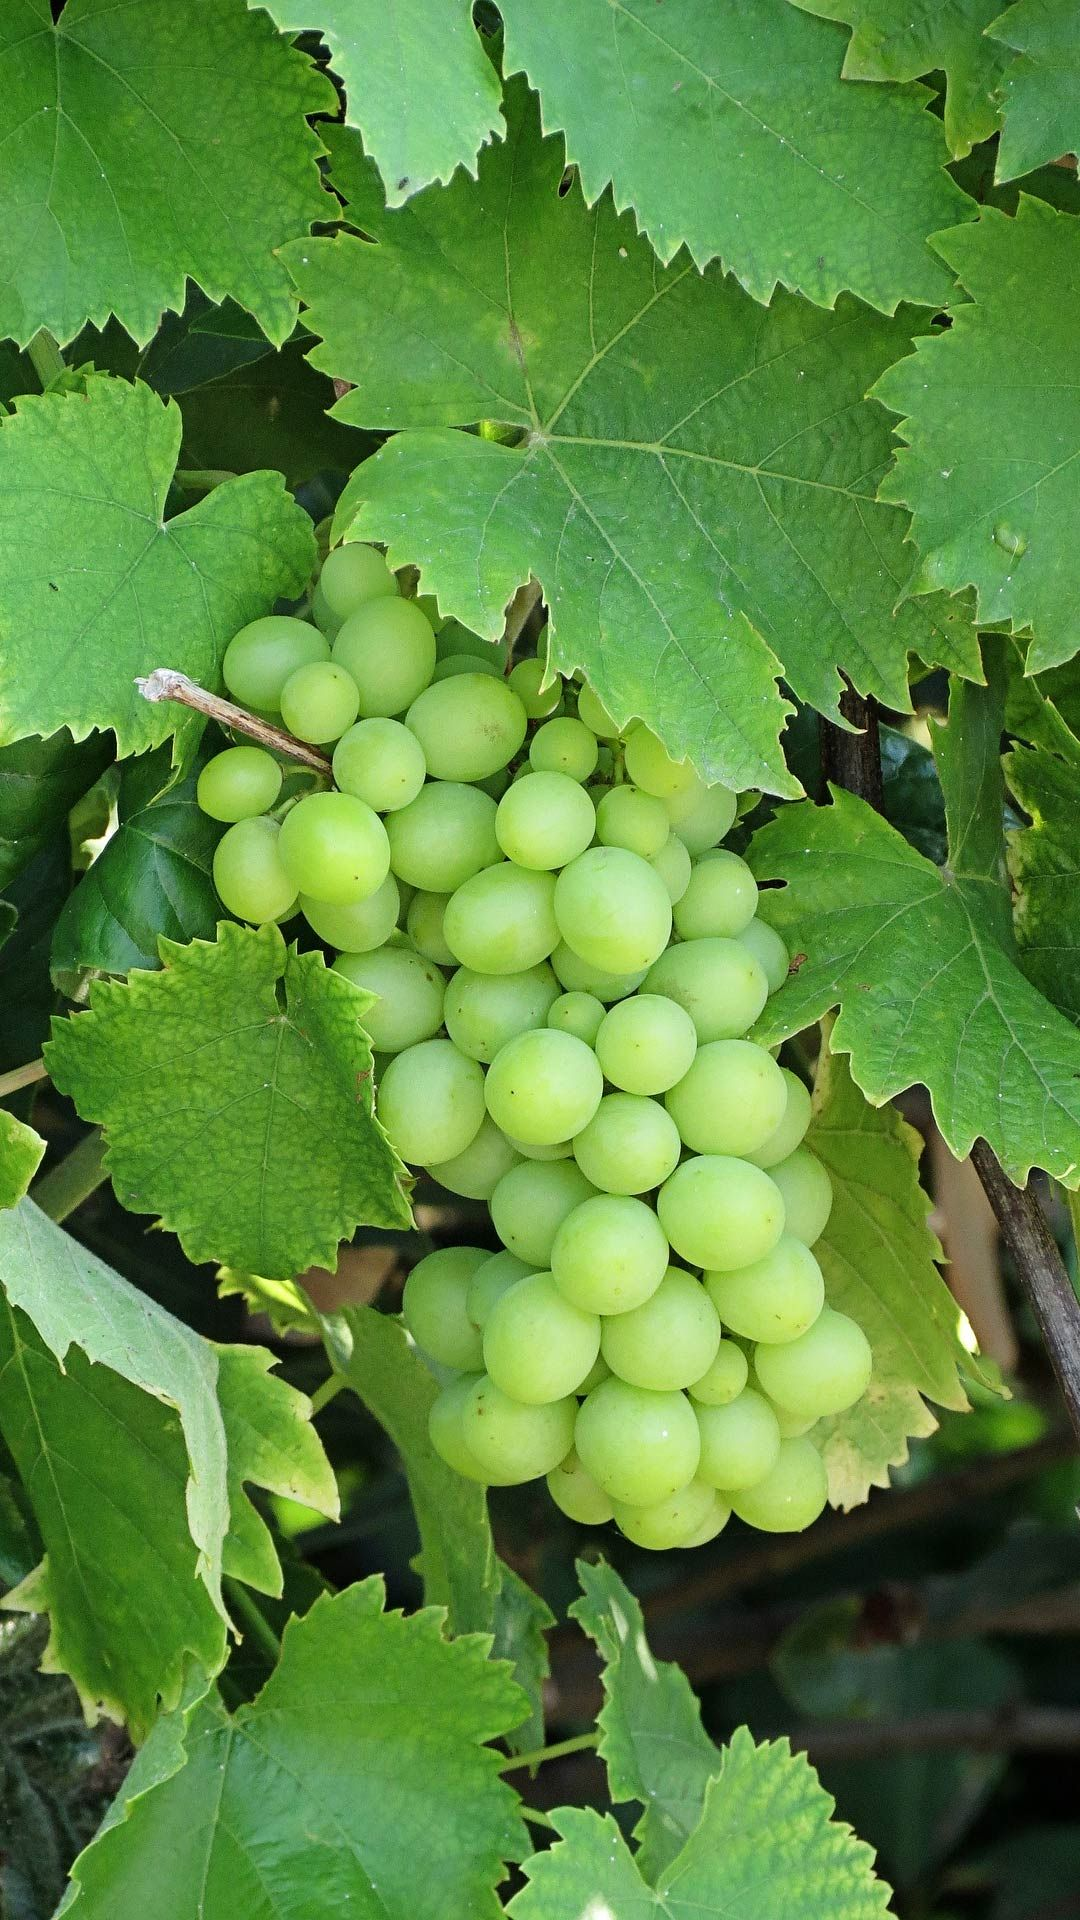grapes: (177, 574, 884, 1611)
